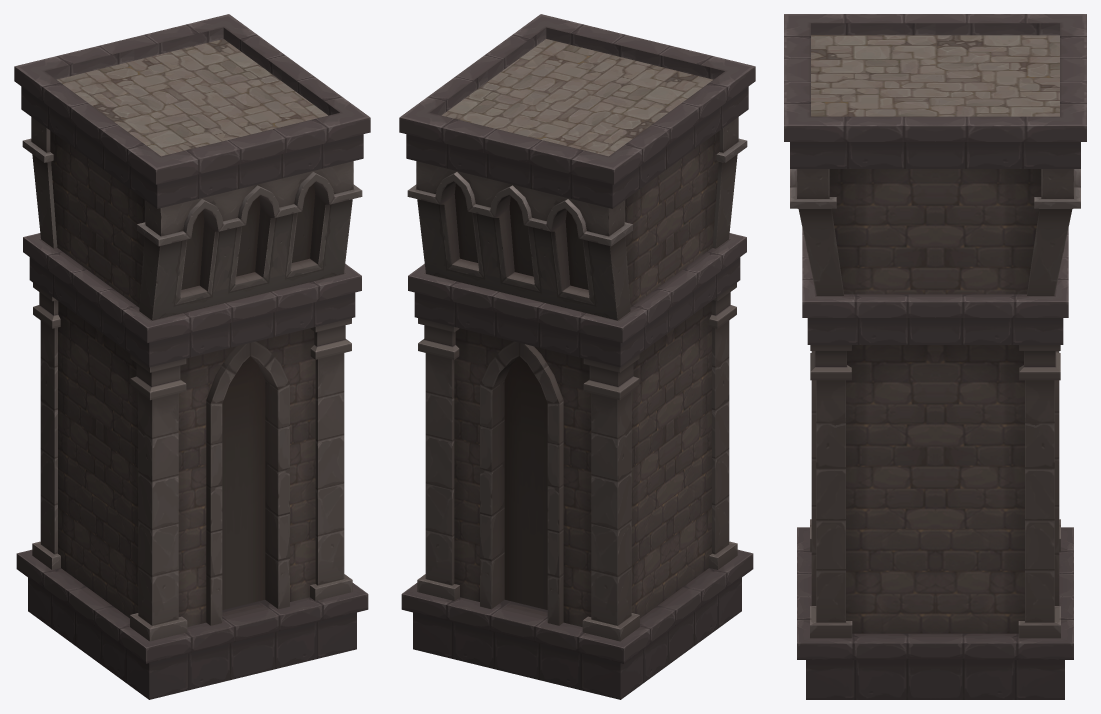
Rendered from sc_dungeon_moshenta_building_001.FBX.
3 views of the same model, side by side, from view 1: azimuth 30°, elevation 25°; view 2: azimuth 150°, elevation 25°; view 3: azimuth 270°, elevation 25° (orthographic). The views are drawn at different scales.
Visible parts, largest first — view 1: sc_dungeon_moshenta_building_001; view 2: sc_dungeon_moshenta_building_001; view 3: sc_dungeon_moshenta_building_001.
Boxes of the visible parts, <box> form: sc_dungeon_moshenta_building_001: <box>14,14,370,699</box>; sc_dungeon_moshenta_building_001: <box>399,14,755,699</box>; sc_dungeon_moshenta_building_001: <box>784,14,1086,699</box>.
Bounding box in the file's own units: 15.59 × 17.19 × 36.09.
1 material, 1 textured.
